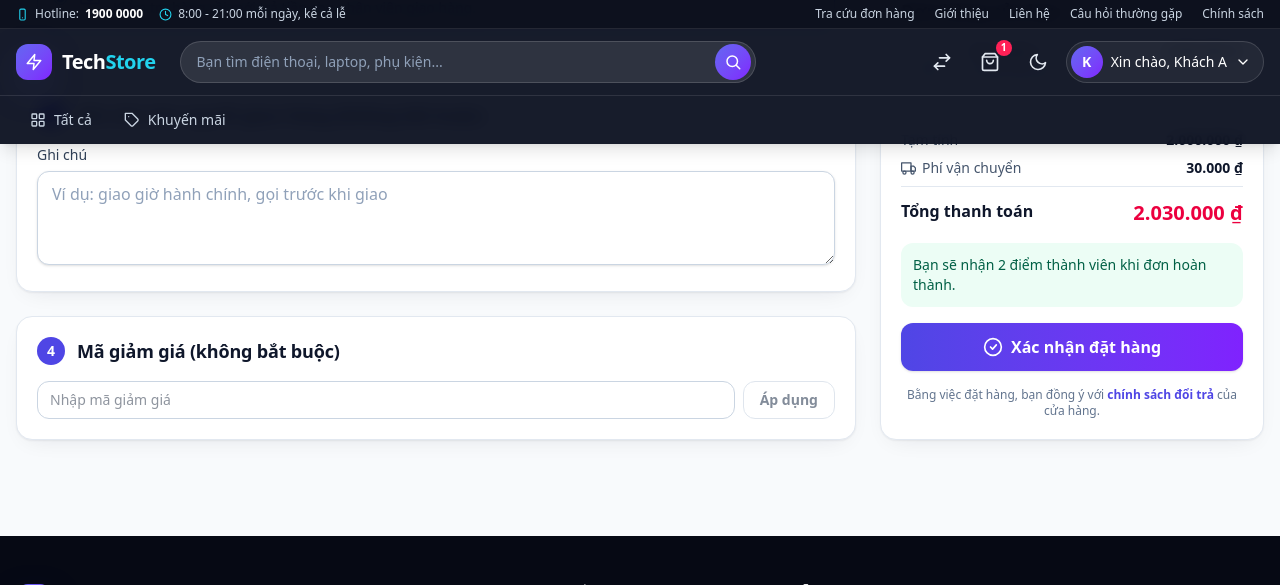
Test: Ô nhập mã giảm giá ở trang đặt hàng (US-25) › mã hợp lệ: hiện ngay số tiền giảm và tổng mới (AC1)
(page scrolled)
Type "giam10" into the field labelled "mã giảm giá" at (386, 400), box [37,381,735,419]
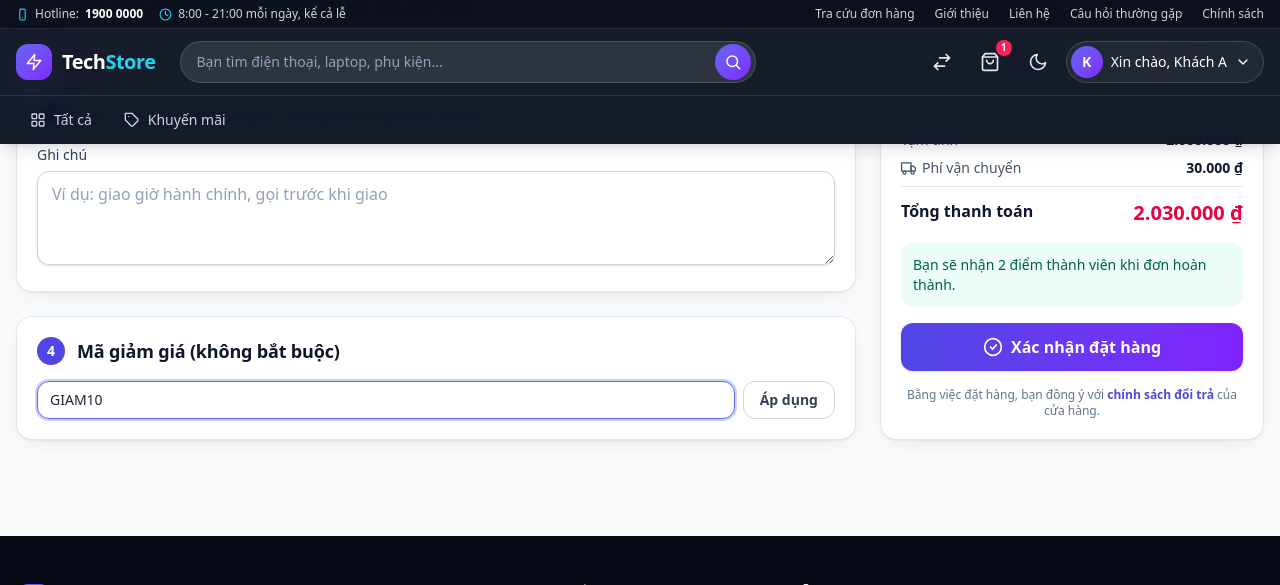
Click the button "Áp dụng" at (789, 400), box [743,381,835,419]
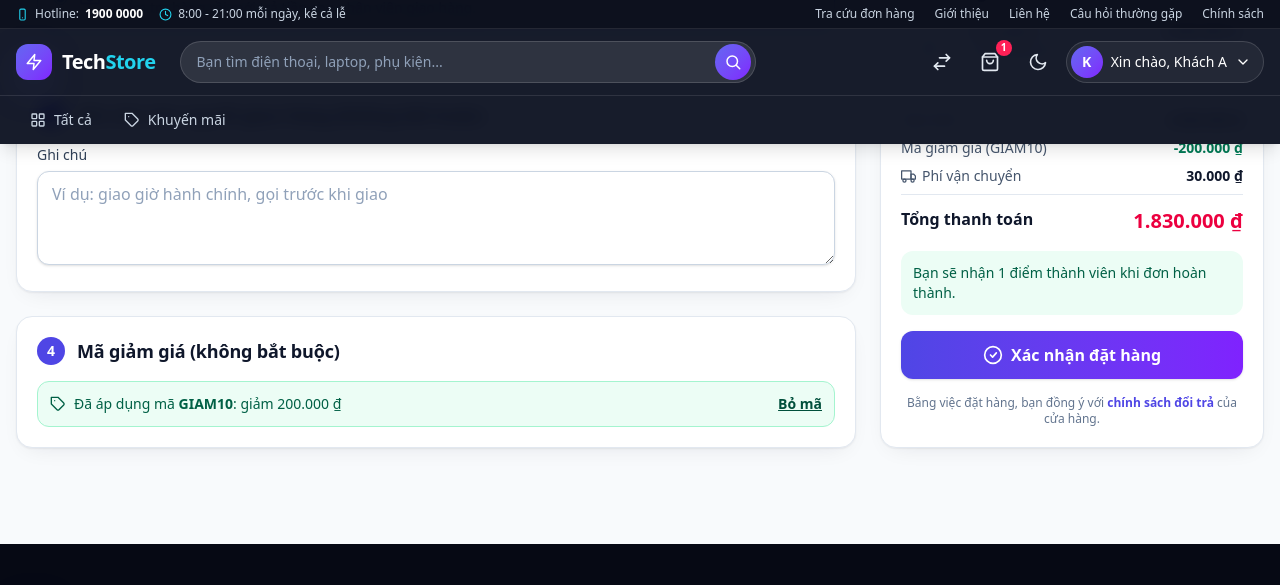
Expected: the text "Đã áp dụng mã GIAM10: giảm 200.000 ₫" is shown, [74,394,341,414]
Expected: the text "Mã giảm giá (GIAM10)" is shown, [901,138,1047,158]
Expected: the text "-200.000 ₫" is shown, [1174,138,1243,158]
